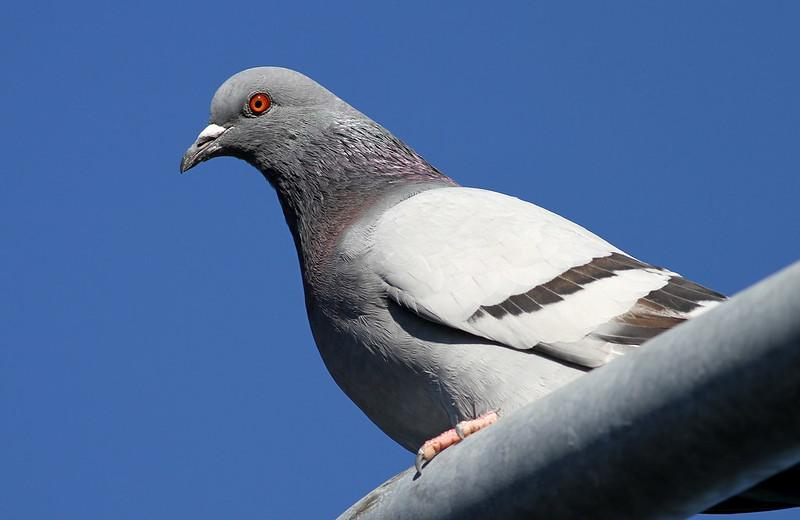Flying Rat: (180, 61, 729, 461)
